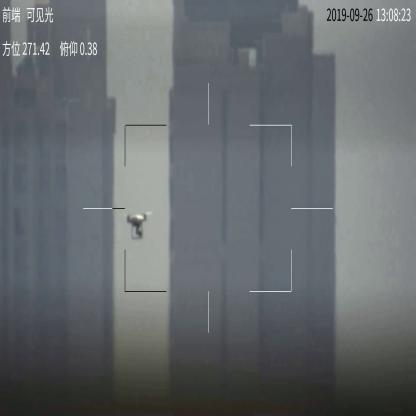uav: (124, 209, 154, 239)
